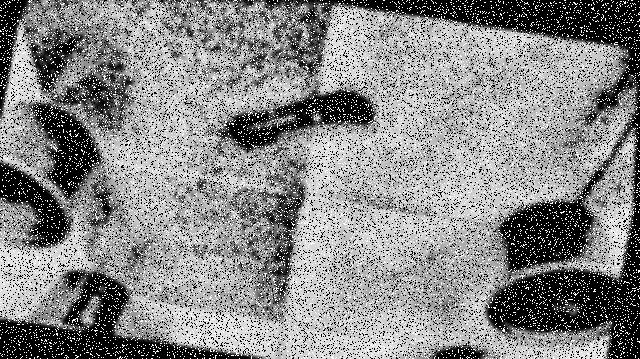pot: (482, 198, 622, 347), (0, 98, 99, 248)
